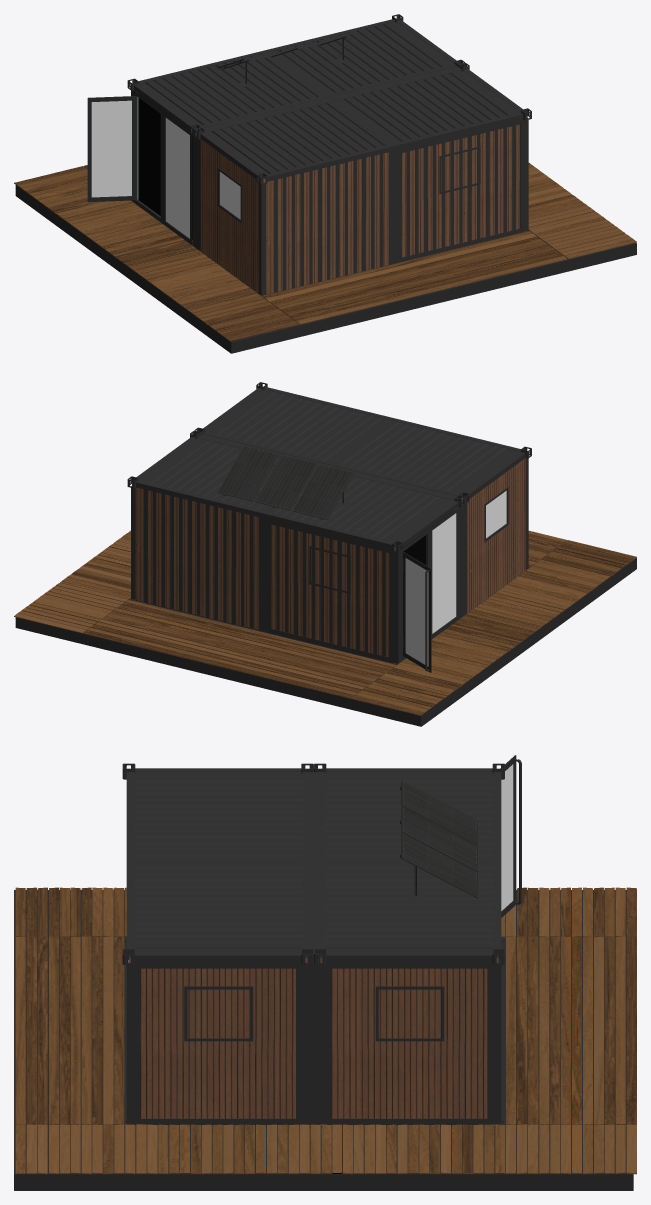
The model's file is duo-oasis.glb.
3 renders of one model, top to bottom at view 1: azimuth 30°, elevation 25°; view 2: azimuth 150°, elevation 25°; view 3: azimuth 270°, elevation 25°, orthographic. The views are drawn at different scales.
Visible parts, largest first — view 1: base, model_2_container_2_exterior_sealing_metal, model_2_container_1_exterior_sealing_metal, model_2_container_2_wall_2_none_finish_wood, model_2_container_2_wall_1_none_finish_wood, model_2_container_2_wall_2_none_exterior_metal, model_2_container_2_edges_metal, model_2_container_2_wall_3_window_finish_wood, model_2_container_2_wall_1_none_exterior_metal, model_2_container_1_wall_3_door_left_glass, model_2_container_1_edges_metal, model_2_support_metal (+8 smaller); view 2: base, model_2_container_2_exterior_sealing_metal, model_2_container_1_wall_5_none_finish_wood, model_2_container_1_exterior_sealing_metal, model_2_container_1_wall_4_none_finish_wood, model_2_container_1_wall_5_none_exterior_metal, model_2_container_1_edges_metal, model_2_container_2_wall_3_window_finish_wood, model_2_container_1_wall_4_none_exterior_metal, model_2_solar_panel_1_solar_semic, model_2_container_2_edges_metal, model_2_container_1_wall_3_door_right_glass (+8 smaller); view 3: base, model_2_container_2_exterior_sealing_metal, model_2_container_1_exterior_sealing_metal, model_2_container_1_wall_6_none_finish_wood, model_2_container_2_wall_6_none_finish_wood, model_2_container_1_edges_metal, model_2_container_2_edges_metal, model_2_solar_panel_1_solar_semic, model_2_container_1_wall_6_balcony_frame_metal, model_2_container_2_wall_6_balcony_frame_metal, model_2_support_metal, model_2_container_1_wall_3_door_left_glass (+4 smaller).
Boxes of the visible parts, x1,y1,x2,y2 form: base: (14,163,636,353); model_2_container_2_exterior_sealing_metal: (205,70,520,178); model_2_container_1_exterior_sealing_metal: (139,21,454,129); model_2_container_2_wall_2_none_finish_wood: (263,152,388,295); model_2_container_2_wall_1_none_finish_wood: (401,124,526,257); model_2_container_2_wall_2_none_exterior_metal: (263,151,392,292); model_2_container_2_edges_metal: (194,63,531,296); model_2_container_2_wall_3_window_finish_wood: (199,139,260,295); model_2_container_2_wall_1_none_exterior_metal: (406,125,515,256); model_2_container_1_wall_3_door_left_glass: (91,100,131,197); model_2_container_1_edges_metal: (127,14,465,246); model_2_support_metal: (194,52,458,263); base: (14,530,636,726); model_2_container_2_exterior_sealing_metal: (205,389,520,497); model_2_container_1_wall_5_none_finish_wood: (132,487,258,629); model_2_container_1_exterior_sealing_metal: (139,438,453,546); model_2_container_1_wall_4_none_finish_wood: (271,524,396,664); model_2_container_1_wall_5_none_exterior_metal: (144,489,261,630); model_2_container_1_edges_metal: (127,431,465,664); model_2_container_2_wall_3_window_finish_wood: (465,458,527,614); model_2_container_1_wall_4_none_exterior_metal: (276,525,396,656); model_2_solar_panel_1_solar_semic: (219,446,352,518); model_2_container_2_edges_metal: (194,382,531,614); model_2_container_1_wall_3_door_right_glass: (432,513,456,633); base: (14,887,636,1190); model_2_container_2_exterior_sealing_metal: (129,772,307,956); model_2_container_1_exterior_sealing_metal: (320,772,498,956); model_2_container_1_wall_6_none_finish_wood: (320,957,498,1125); model_2_container_2_wall_6_none_finish_wood: (129,957,307,1124); model_2_container_1_edges_metal: (314,763,504,1127); model_2_container_2_edges_metal: (122,763,313,1127); model_2_solar_panel_1_solar_semic: (403,782,476,895); model_2_container_1_wall_6_balcony_frame_metal: (325,962,493,1124); model_2_container_2_wall_6_balcony_frame_metal: (134,962,302,1124); model_2_support_metal: (134,772,493,1124); model_2_container_1_wall_3_door_left_glass: (501,764,513,910).
Bounding box in the file's own units: 9.21 × 3.46 × 8.51.
Materials: 8 (3 with a texture image).
